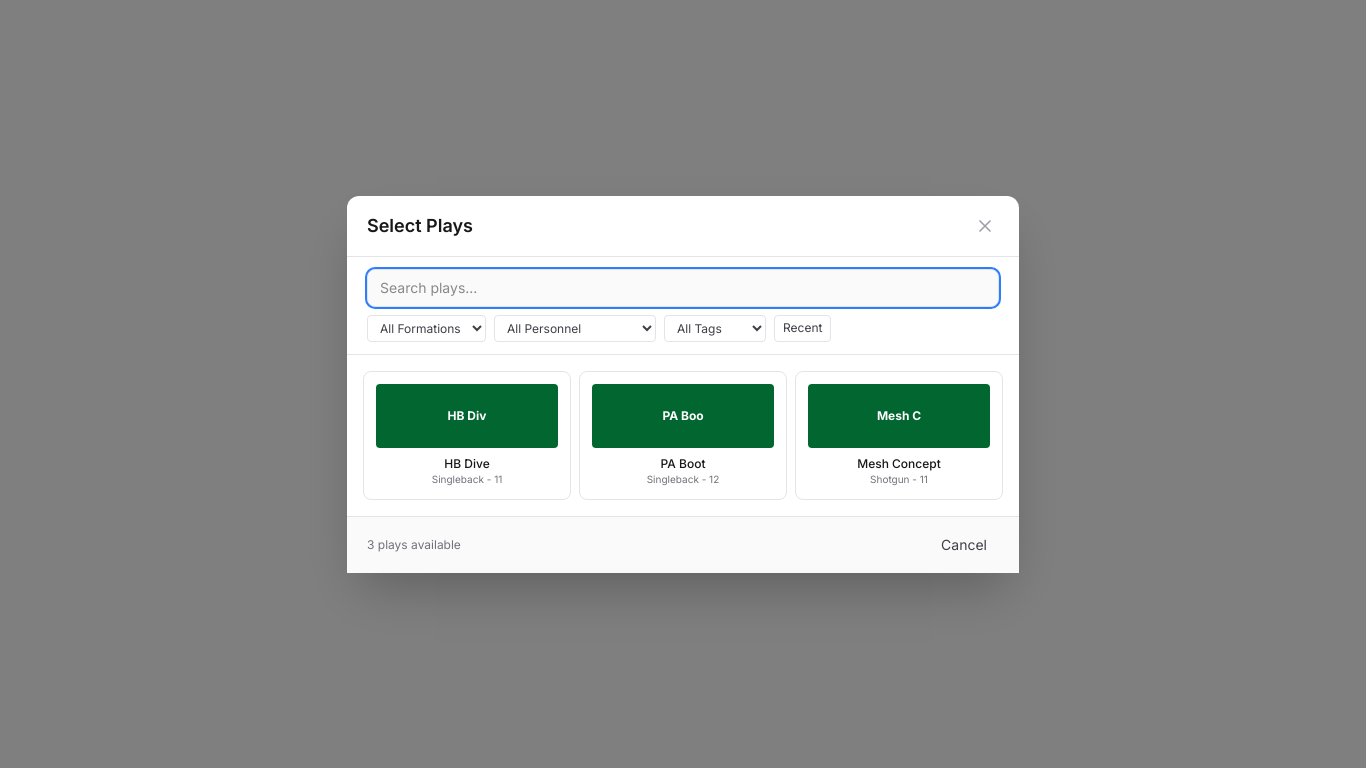
PlayPicker › shows recent plays when toggled
The image size is (1366, 768).
Click the button with test id "recent-toggle". click: (803, 328)
box: [774,314,831,342]
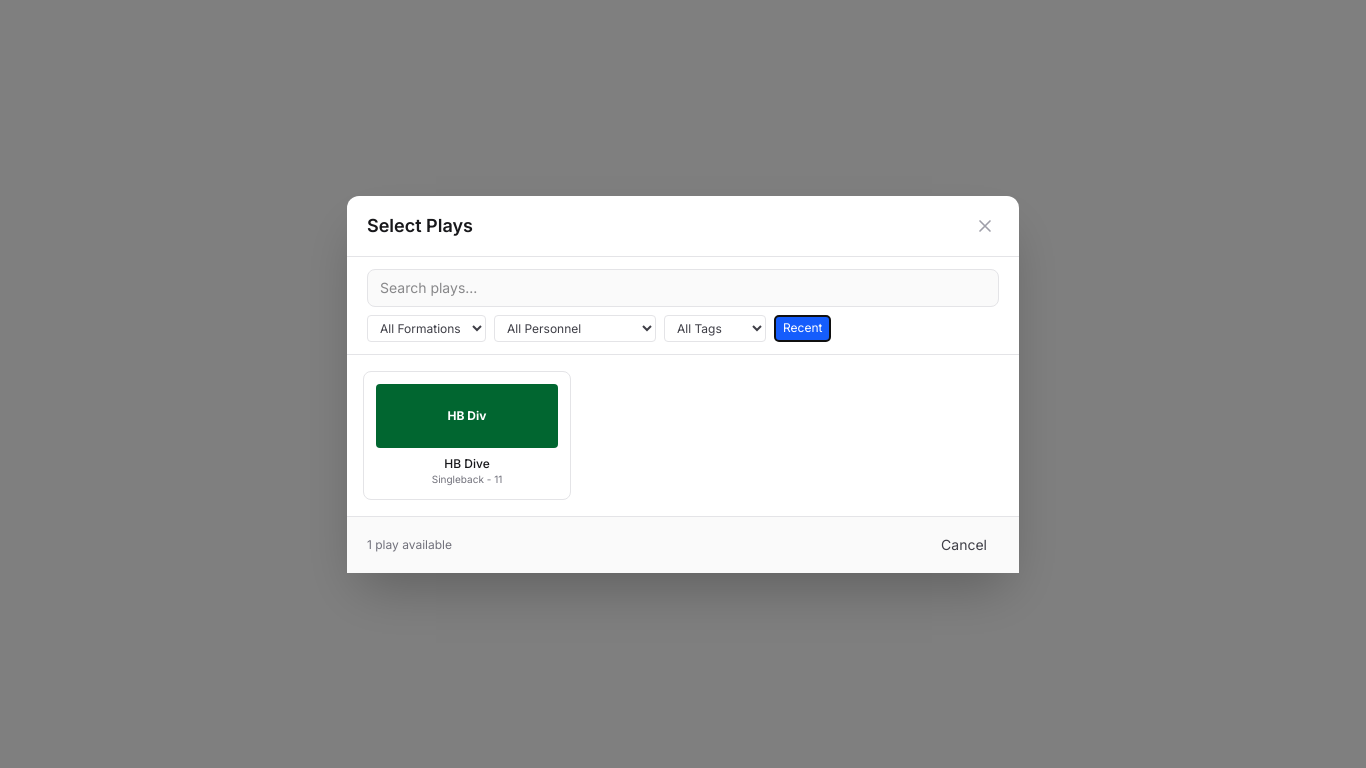
Expected: the button with test id "play-option-play-1" is shown, [363,370,571,500]
Expected: the button with test id "play-option-play-2" is gone
Expected: the button with test id "play-option-play-3" is gone
